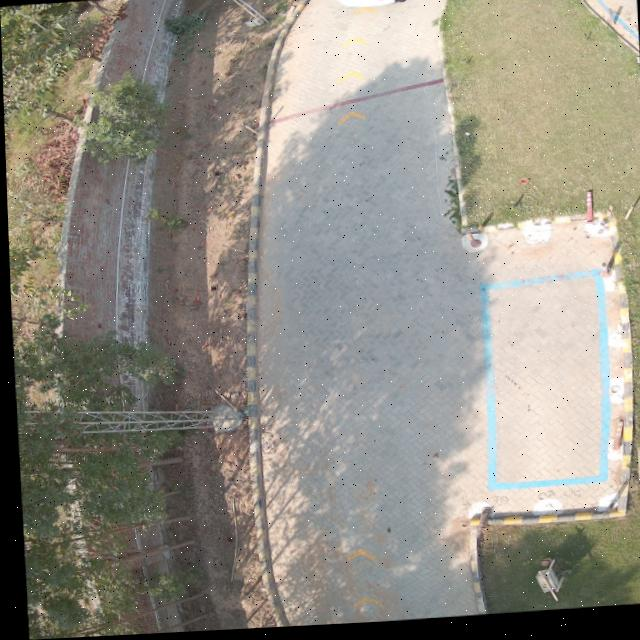car: (335, 0, 407, 10)
